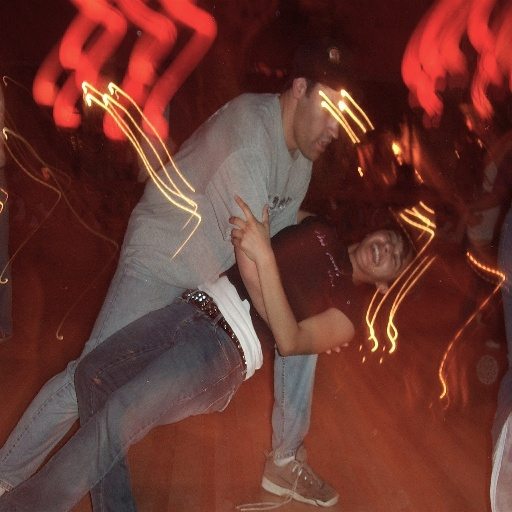hand: (233, 195, 273, 281), (325, 341, 349, 356)
